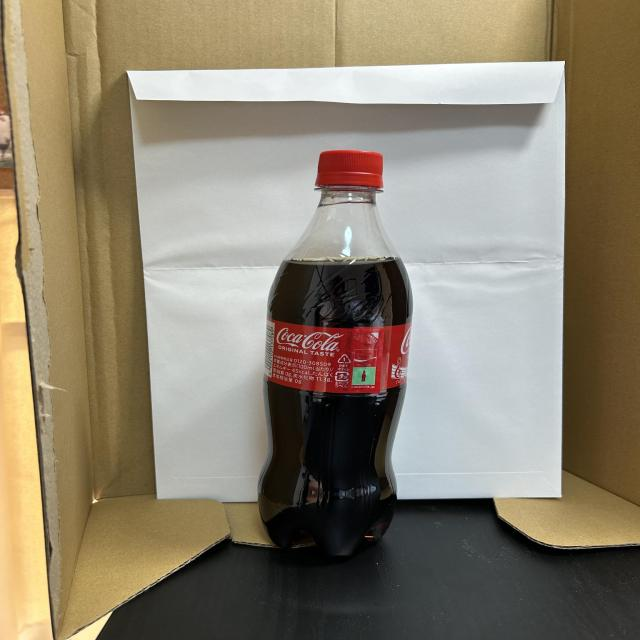high: (258, 150, 412, 556)
